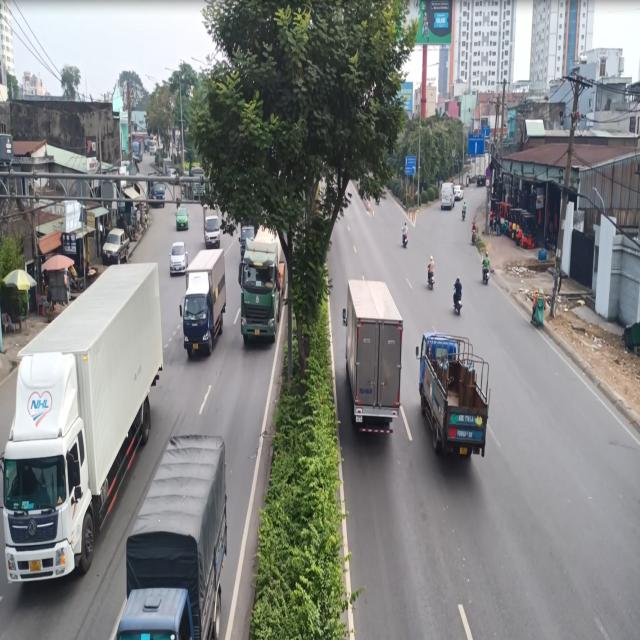car: (170, 235, 188, 281)
motor: (422, 248, 438, 299), (452, 268, 465, 320)
truck: (5, 256, 161, 582), (120, 429, 226, 640), (337, 270, 411, 453), (412, 325, 489, 464), (182, 247, 224, 357)
